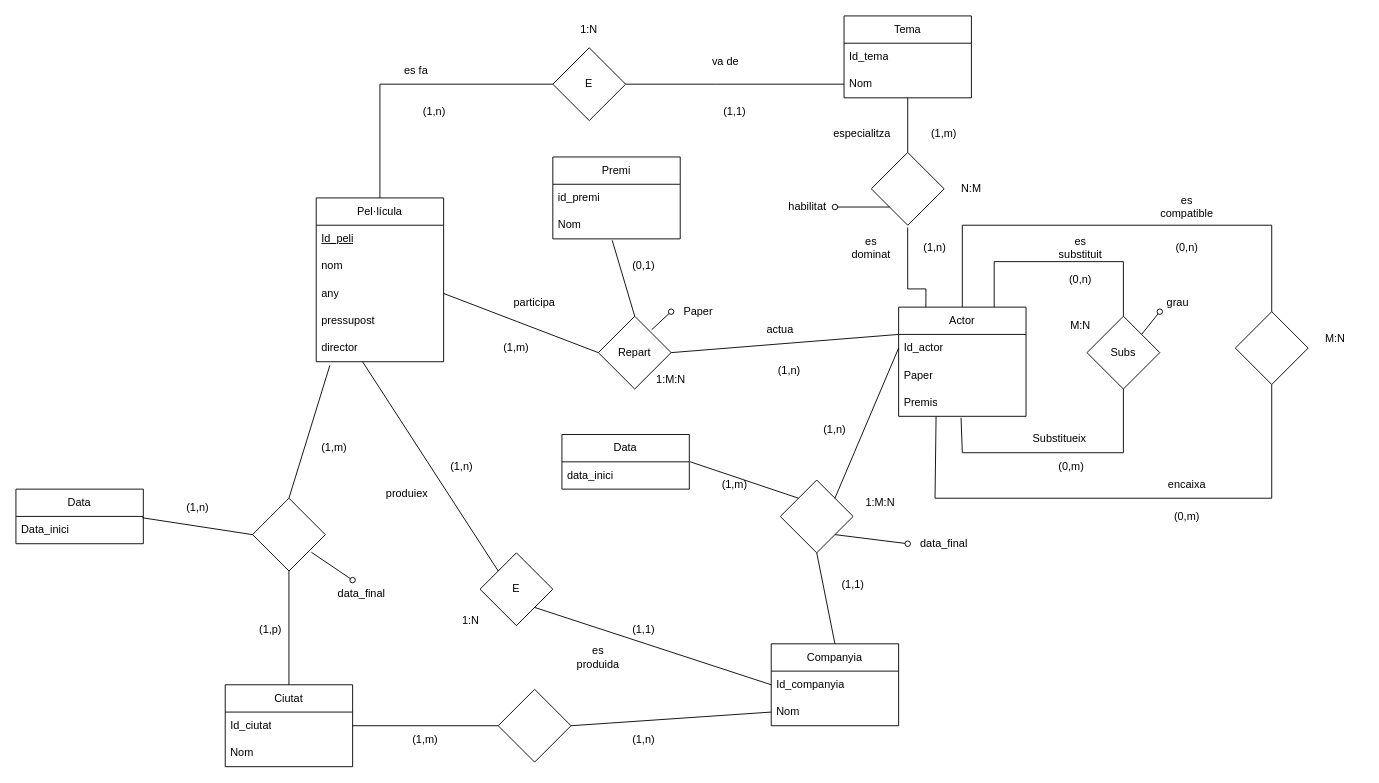
Image size: 1379x783. Some labels were removed from this diagram. The centre of each missing label's shape, as x and y in pixels:
Compatible: the point at 1271,347
Contracte: the point at 816,516
Representació: the point at 534,725
Rodatge: the point at 288,534
TemaXAct: the point at 907,188
